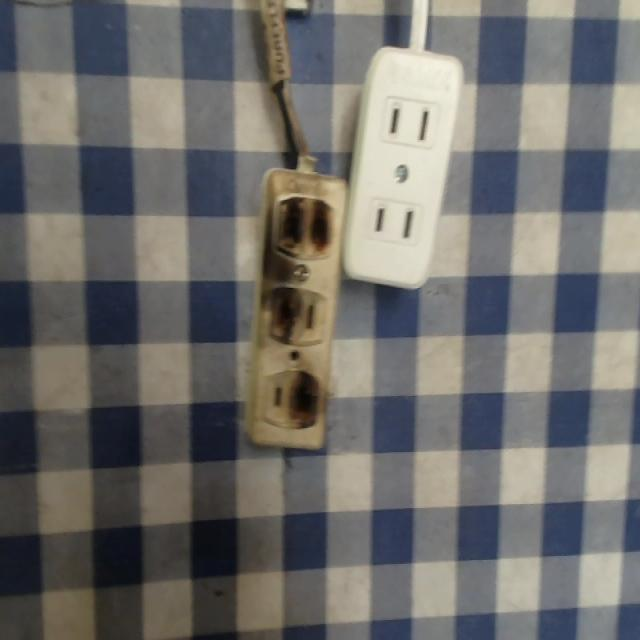-: (265, 196, 336, 261), (259, 285, 299, 347), (284, 370, 318, 438)
